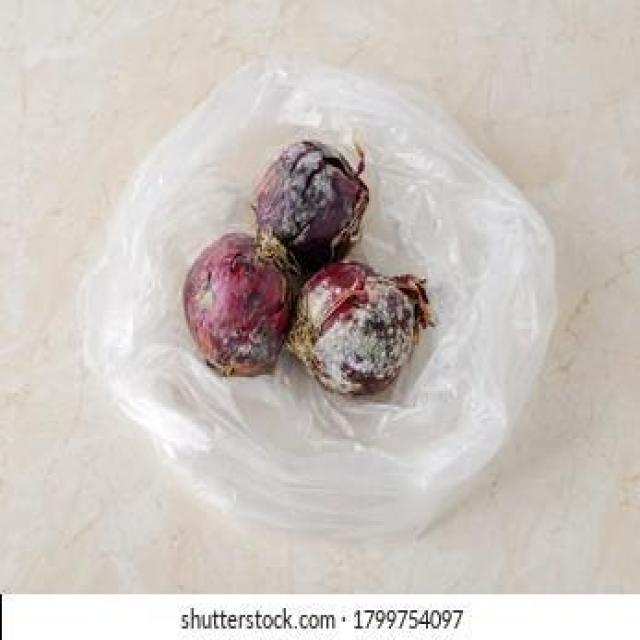Onion: (294, 254, 436, 393), (181, 222, 295, 386), (252, 137, 370, 261)
